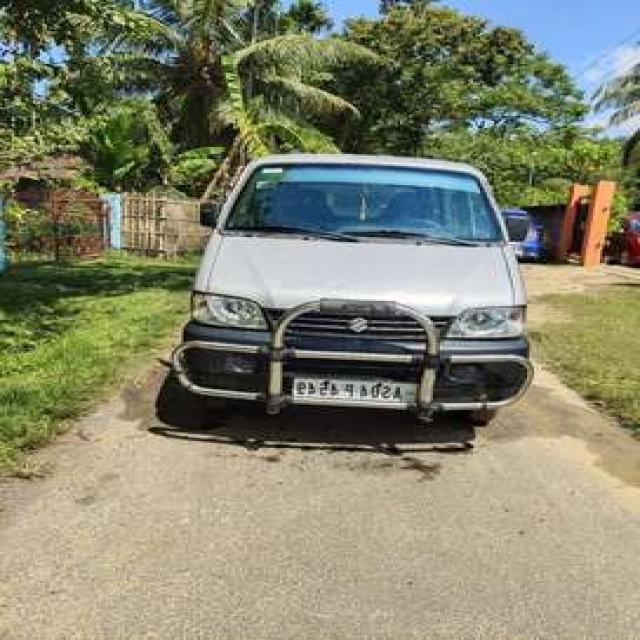license_plate: (288, 375, 422, 401)
